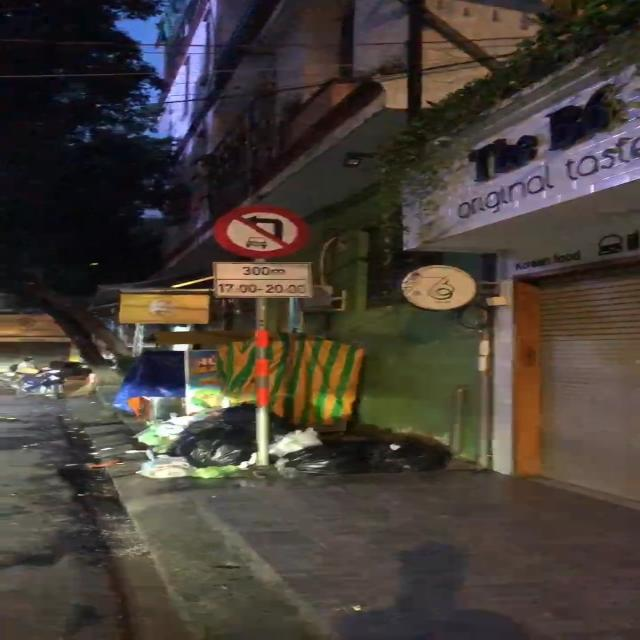Bien bao cam xe o to re trai: (207, 203, 313, 258)
